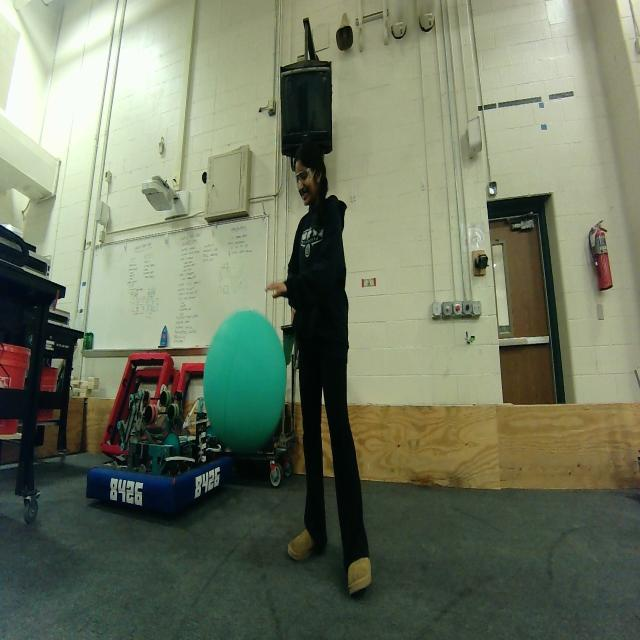algae: (204, 310, 288, 455)
